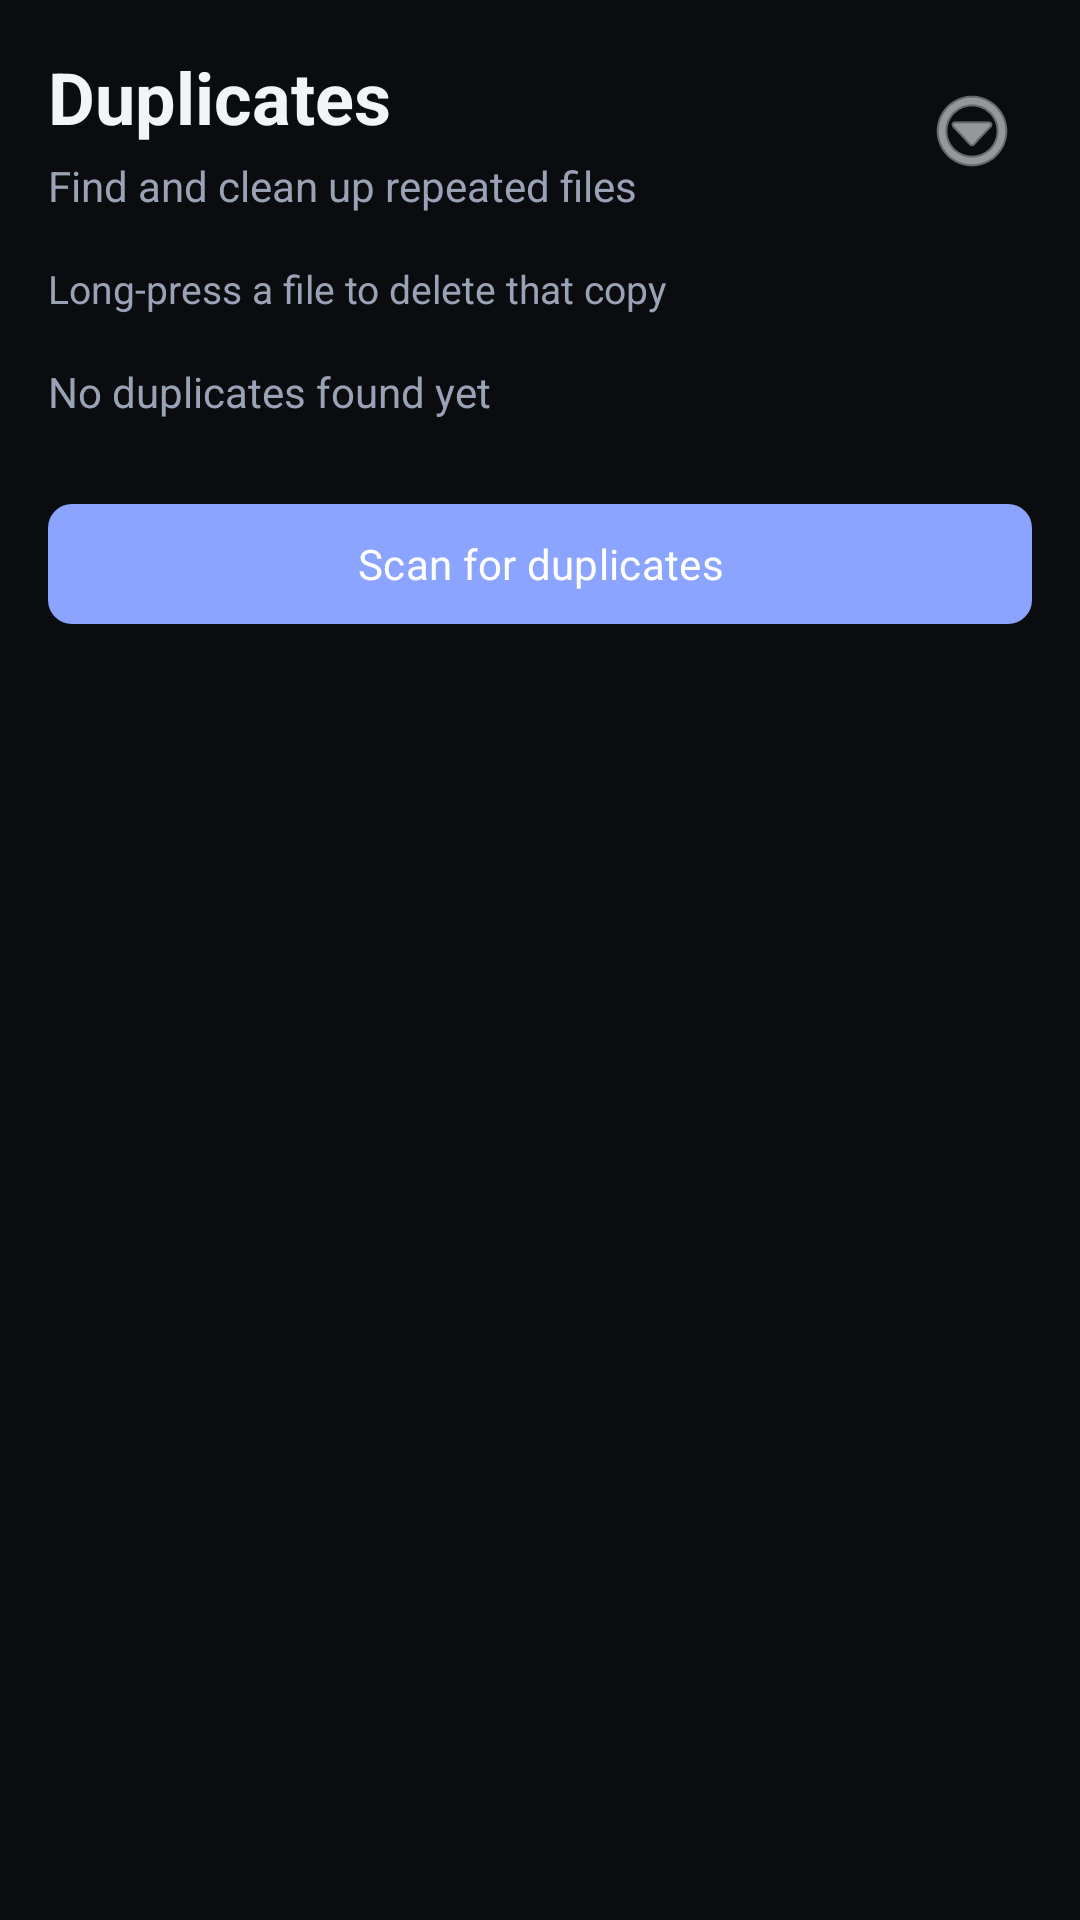

Named icons in this screenshot (1080*1920) and their centers, point (x, y):
Open options: point (972, 131)
